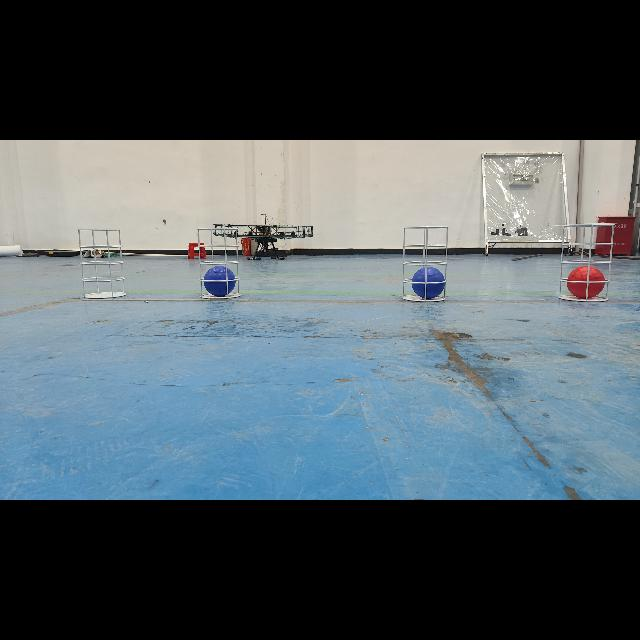B: (411, 268, 447, 298), (202, 267, 238, 297)
R: (568, 266, 606, 298)
S: (554, 221, 616, 305), (399, 223, 455, 303), (75, 227, 129, 301), (196, 226, 244, 300)
